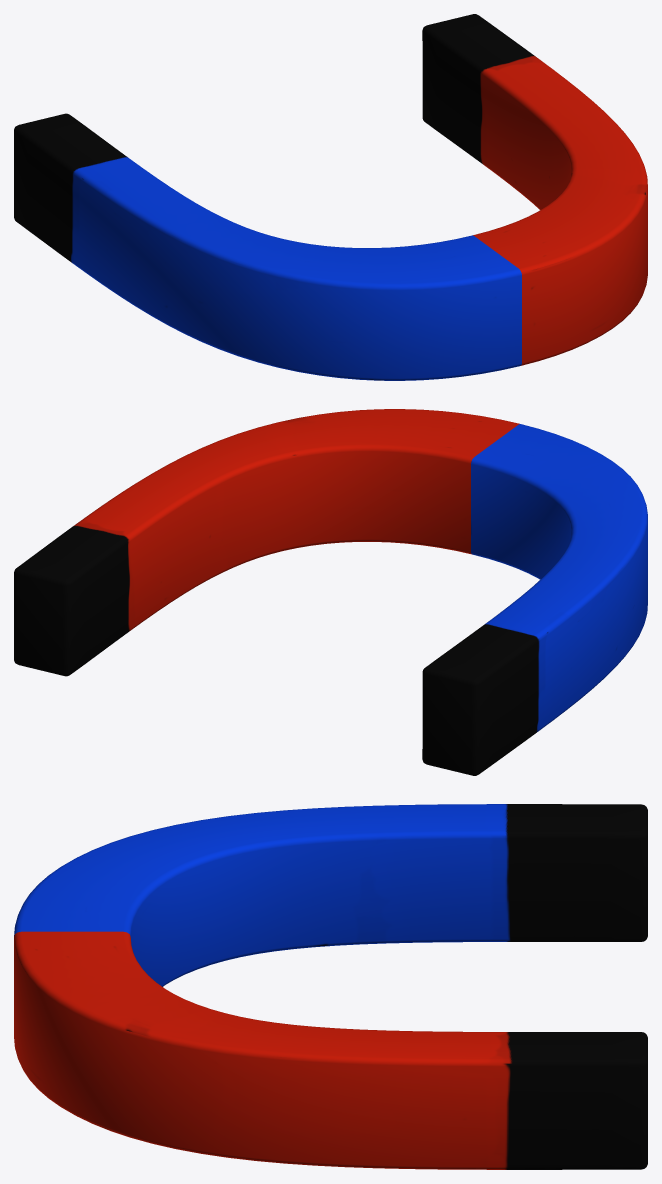
File: magnet.fbx
3 renders of one model, top to bottom at view 1: azimuth 30°, elevation 25°; view 2: azimuth 150°, elevation 25°; view 3: azimuth 270°, elevation 25°, orthographic. The views are drawn at different scales.
Parts seen in each view (by area): view 1: magnet; view 2: magnet; view 3: magnet.
Boxes of the visible parts, box(x1,y1,x2,y2) form: magnet: box(14, 14, 647, 380); magnet: box(14, 409, 647, 775); magnet: box(14, 804, 647, 1169).
Bounding box in the file's own units: 98.84 × 19.63 × 102.
